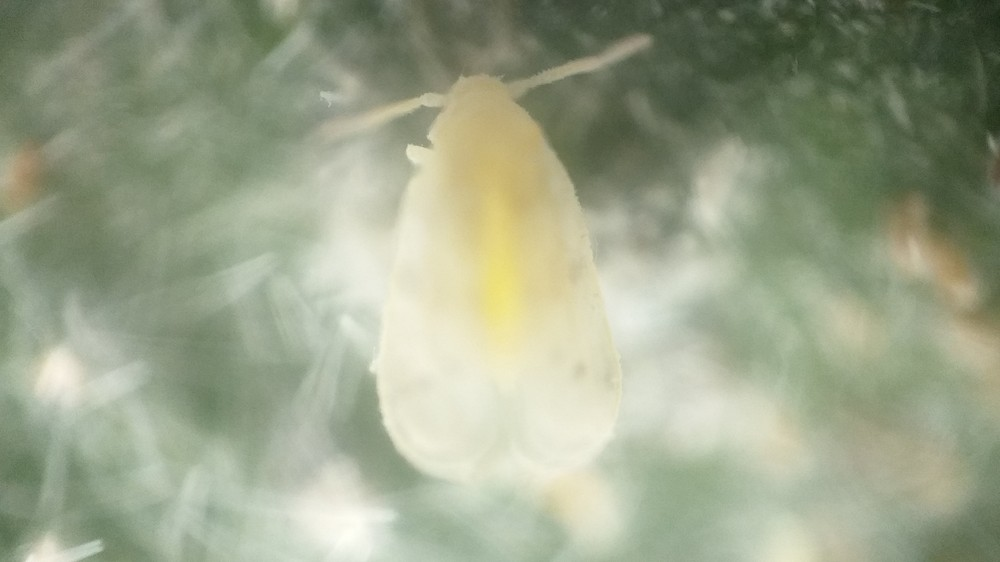Mosca Blanca: (297, 28, 672, 523)
